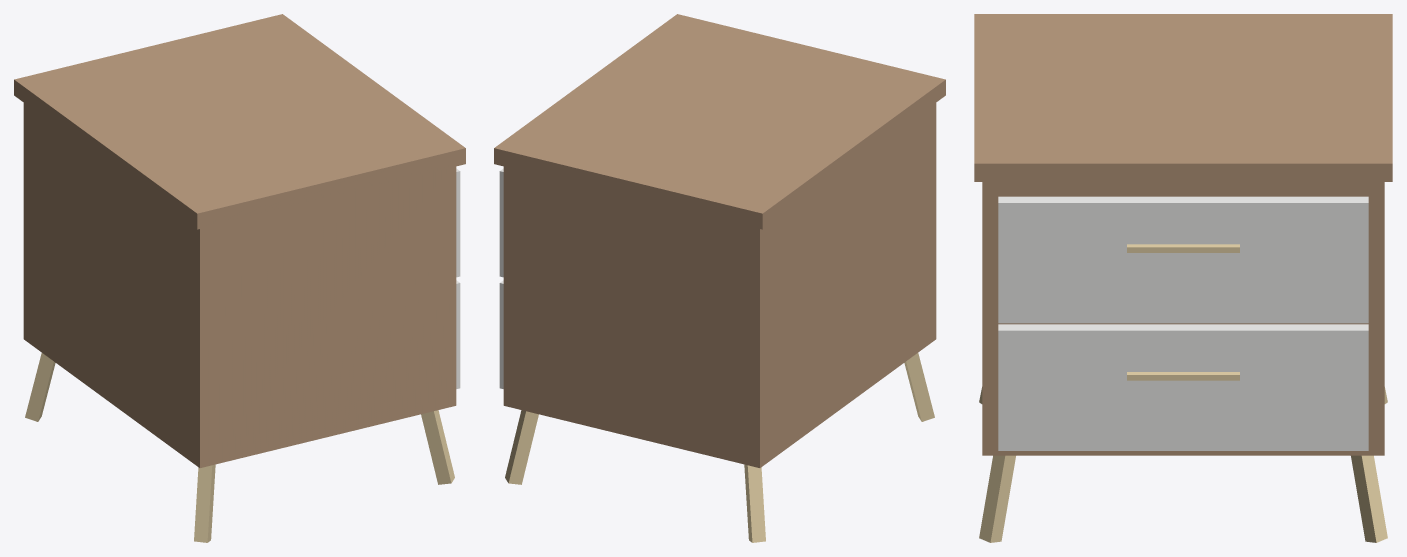
Rendered from SM_Nightstand.fbx.
3 views of the same model, side by side, from view 1: azimuth 30°, elevation 25°; view 2: azimuth 150°, elevation 25°; view 3: azimuth 270°, elevation 25° (orthographic). The views are drawn at different scales.
Visible parts, largest first — view 1: SM_Nightstand; view 2: SM_Nightstand; view 3: SM_Nightstand.
Boxes of the visible parts, bbox=[...] form: SM_Nightstand: bbox=[14, 14, 465, 542]; SM_Nightstand: bbox=[494, 14, 945, 542]; SM_Nightstand: bbox=[974, 14, 1392, 542].
Size of the model in its own units: 45.6 by 52.73 by 52.
